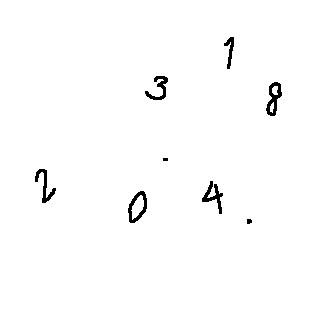.: (241, 208, 253, 231), (162, 154, 176, 169)
0: (123, 188, 154, 225)
1: (213, 34, 243, 70)
2: (30, 157, 63, 211)
3: (138, 66, 184, 103)
4: (199, 176, 225, 217)
8: (265, 76, 290, 129)
